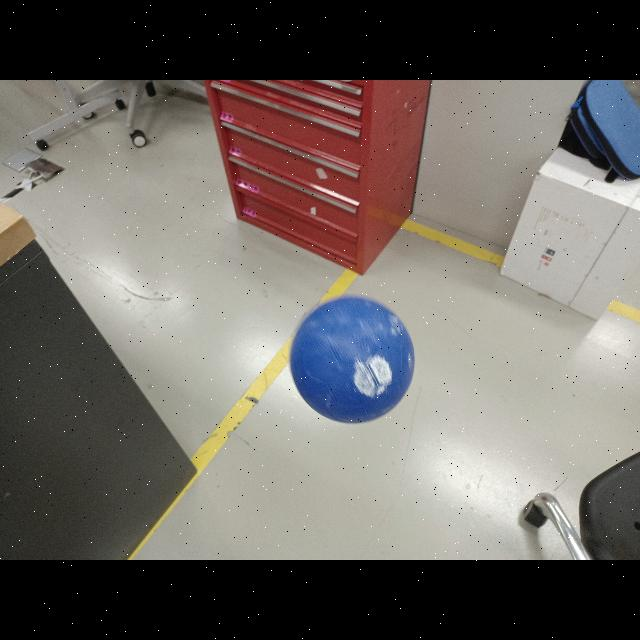B: (289, 294, 417, 424)
